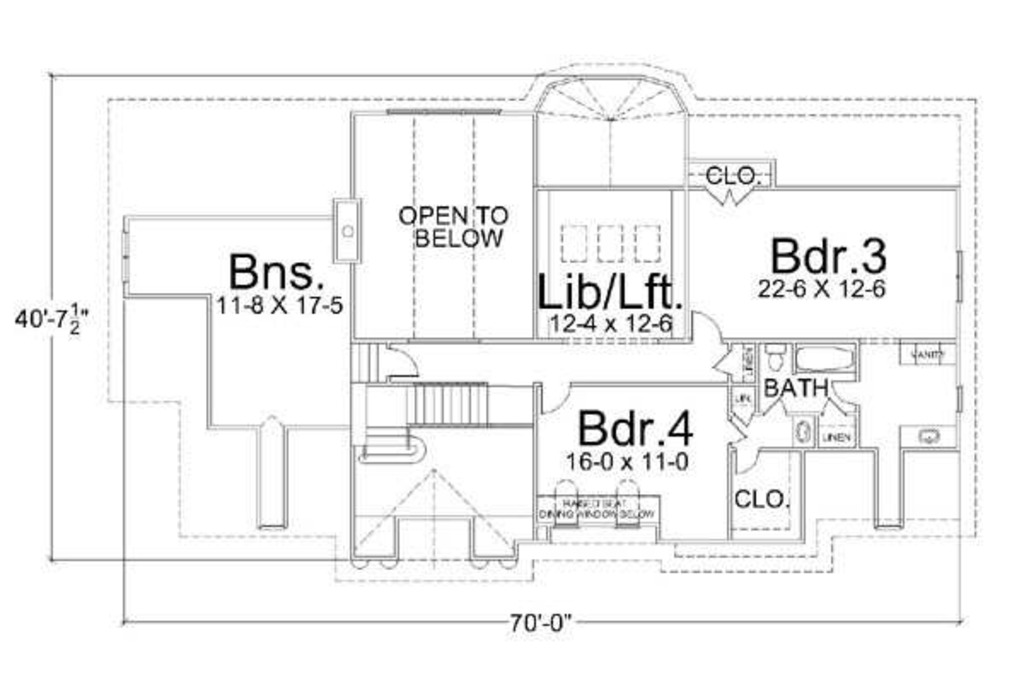door: (689, 309, 726, 345), (387, 340, 422, 378), (827, 377, 864, 407), (734, 448, 764, 481), (723, 415, 755, 445), (709, 350, 734, 377), (759, 396, 789, 416)
large_sink: (761, 338, 790, 375)
small_sink: (900, 424, 964, 455), (789, 416, 818, 446)
stairs: (360, 385, 491, 466)
tub: (795, 344, 861, 374)
